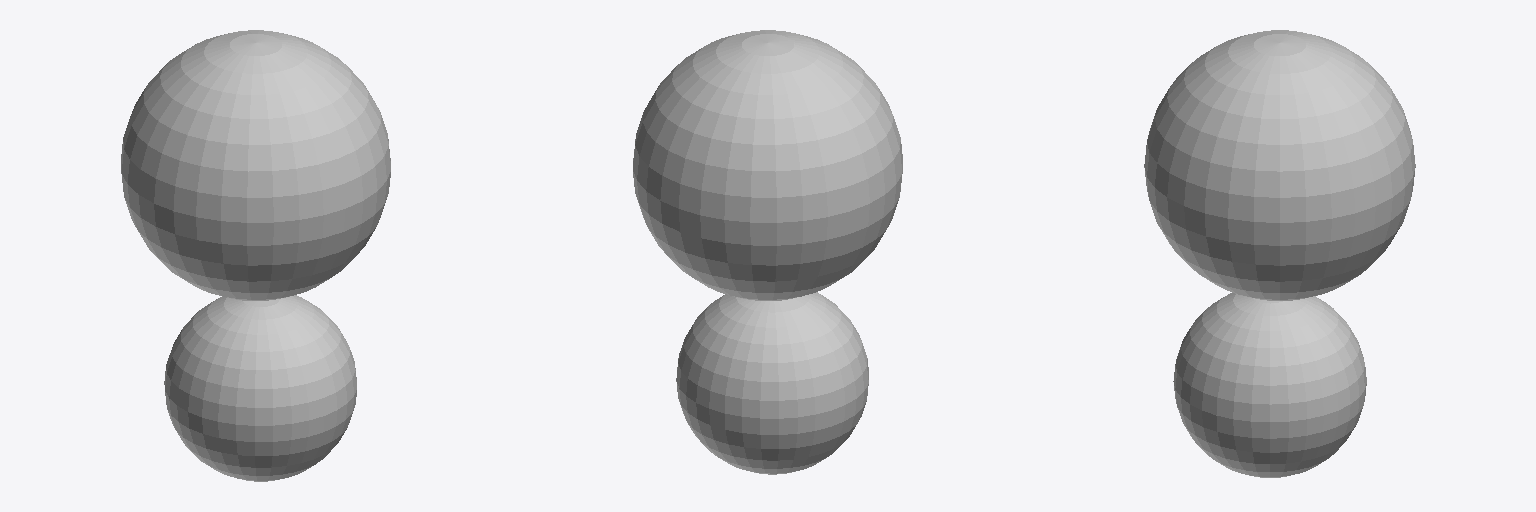
File: wig_head.obj
3 renders of one model, left to right at view 1: azimuth 30°, elevation 25°; view 2: azimuth 150°, elevation 25°; view 3: azimuth 270°, elevation 25°, orthographic.
Visible parts, largest first — view 1: Sphere.001; view 2: Sphere.001; view 3: Sphere.001.
Boxes of the visible parts, x1=… form: Sphere.001: x1=121, y1=30, x2=390, y2=481; Sphere.001: x1=633, y1=30, x2=902, y2=474; Sphere.001: x1=1144, y1=30, x2=1415, y2=477.
Size of the model in its own units: 12.06 by 20.92 by 12.06.